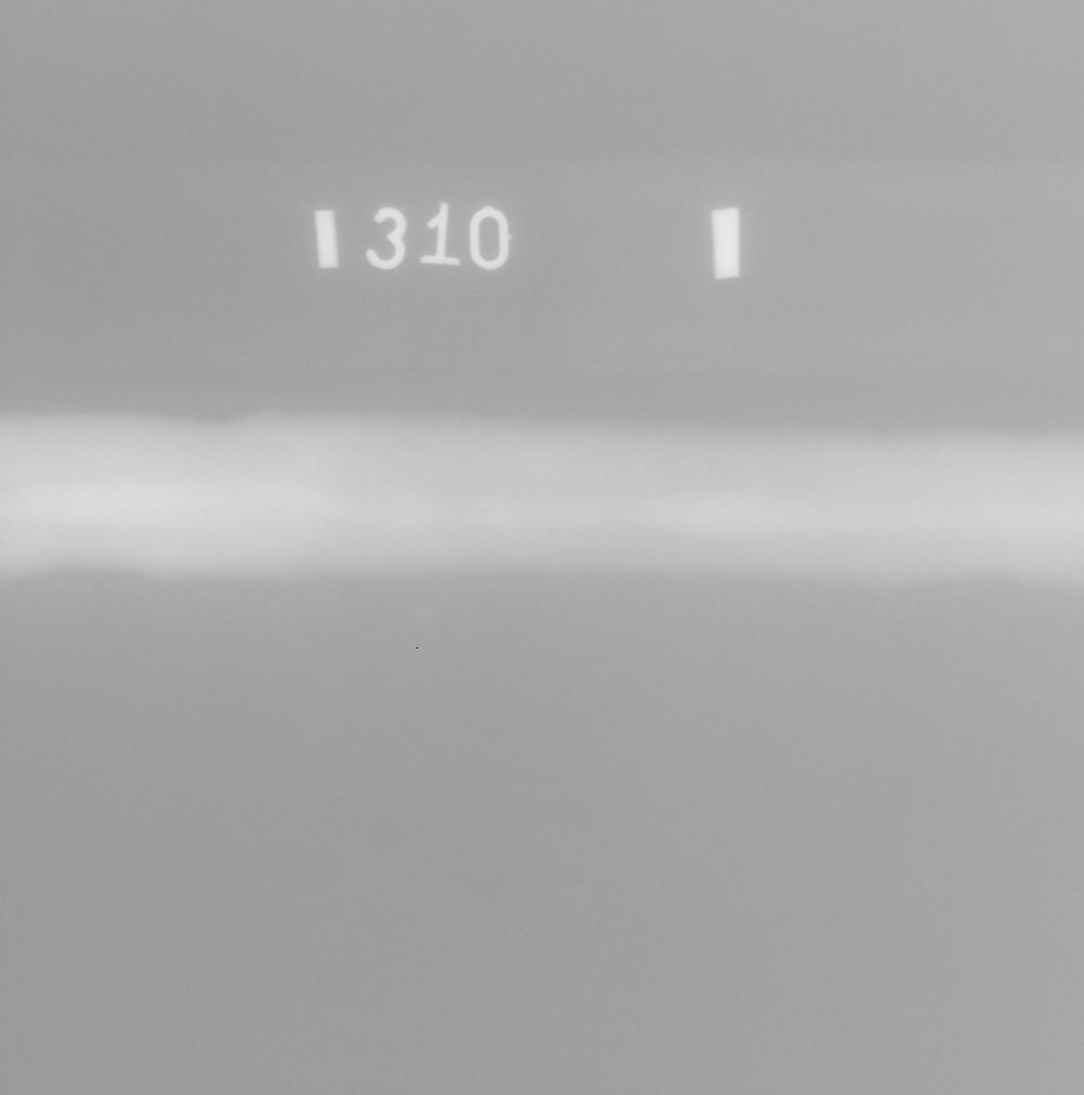Pore/Porosity: (514, 488, 519, 496), (550, 531, 553, 534), (484, 511, 488, 513)
